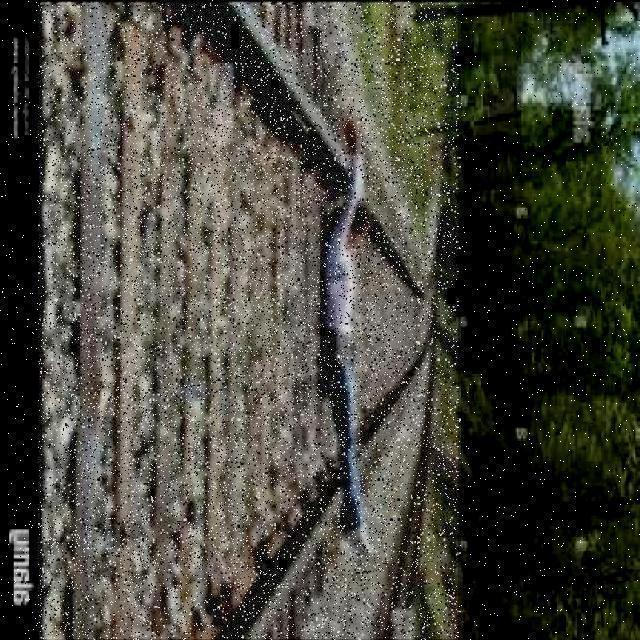rail: (39, 4, 459, 640)
